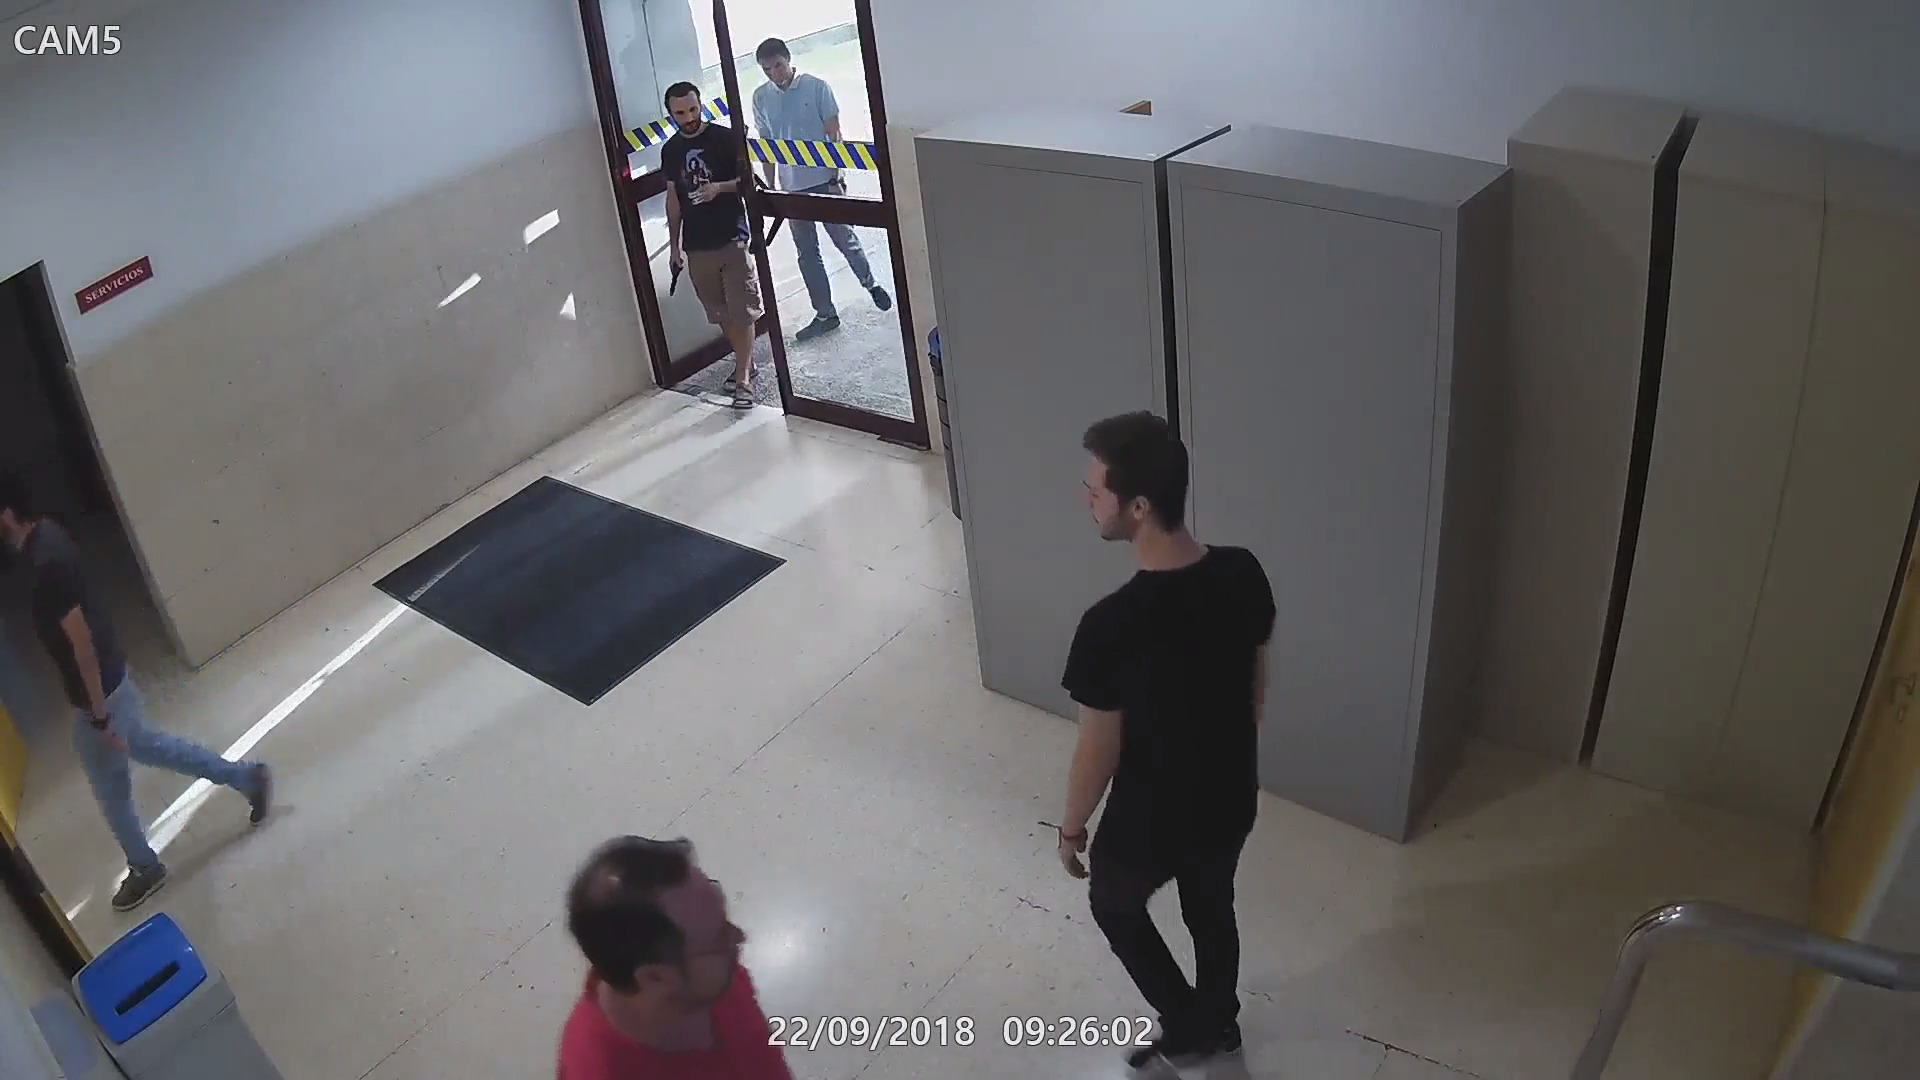pistol: (659, 247, 686, 295)
